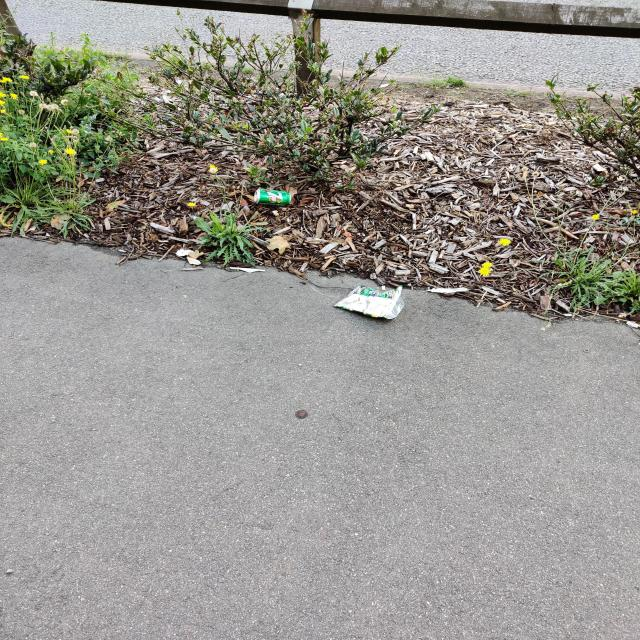litter: (334, 285, 405, 320), (255, 189, 292, 207)
